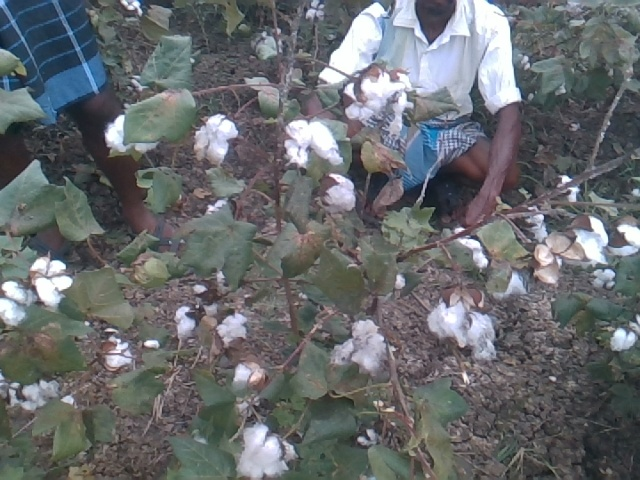cotton: (237, 422, 296, 480), (337, 318, 399, 370), (285, 117, 345, 170), (436, 301, 498, 350), (106, 112, 166, 159), (193, 113, 236, 164), (29, 255, 72, 304), (319, 171, 360, 213), (570, 211, 603, 263), (451, 227, 489, 272), (2, 280, 34, 328), (229, 359, 267, 397), (218, 310, 252, 349), (612, 217, 640, 258), (103, 339, 133, 374), (172, 305, 200, 341), (610, 319, 638, 353), (11, 378, 40, 408), (40, 377, 62, 406)
